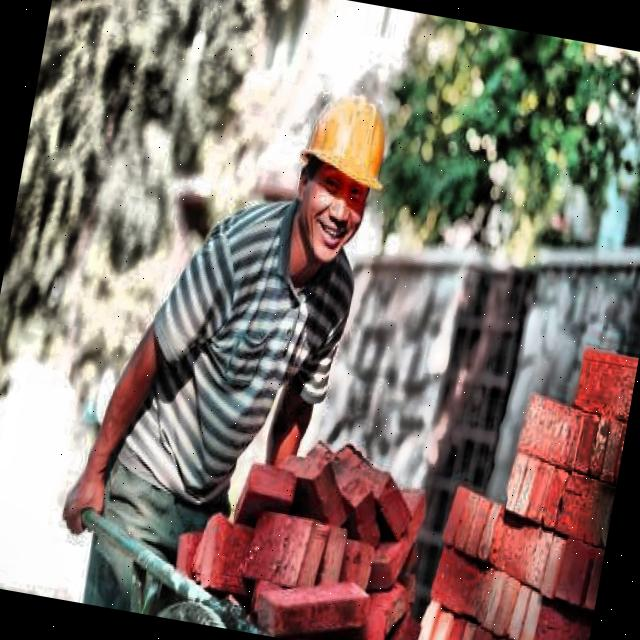helmet: (275, 67, 408, 276)
